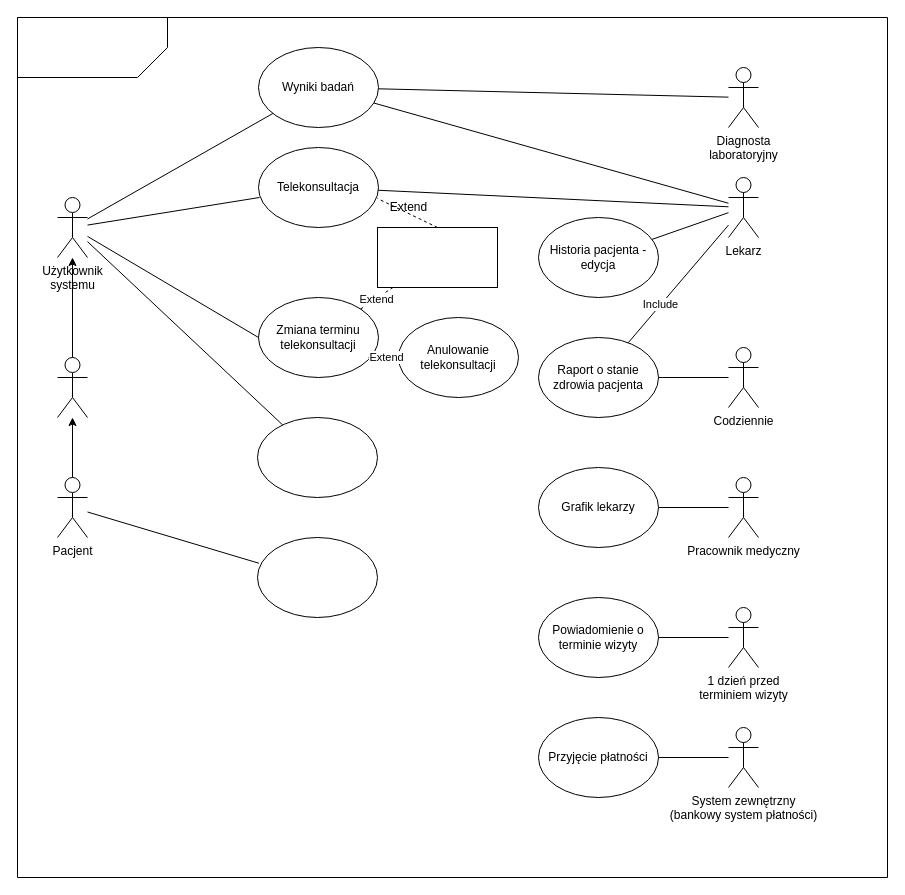
Image size: 905x895. Some labels were removed from this diagram. The box of each missing label's shape, as (x1, y1, x2, y2) in pixels:
Aktualizacja terminu telekonsultacji: (376, 226, 498, 288)
Pełnomocnik: (56, 356, 88, 418)
Rejestracja jako odbiorca usług telemedycznych: (256, 536, 378, 618)
UD "Nazwa systemu": (16, 16, 168, 78)
Zapisanie na telekonsultację: (256, 416, 378, 498)
